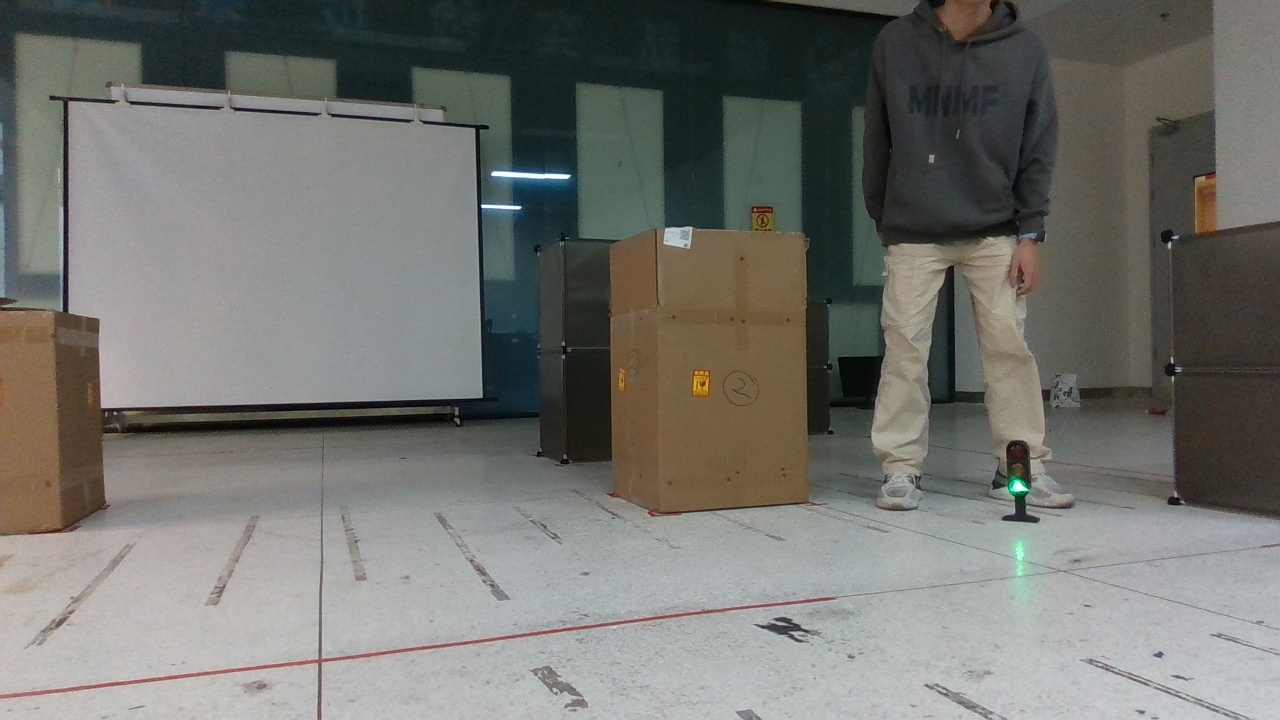green_light: (994, 424, 1043, 528)
